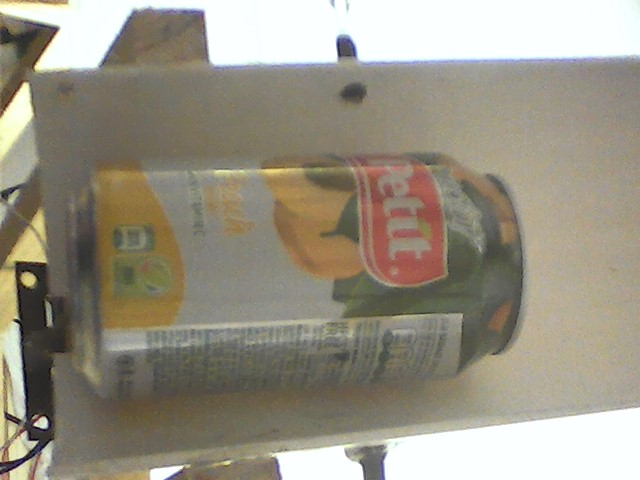lata: (56, 148, 534, 406)
